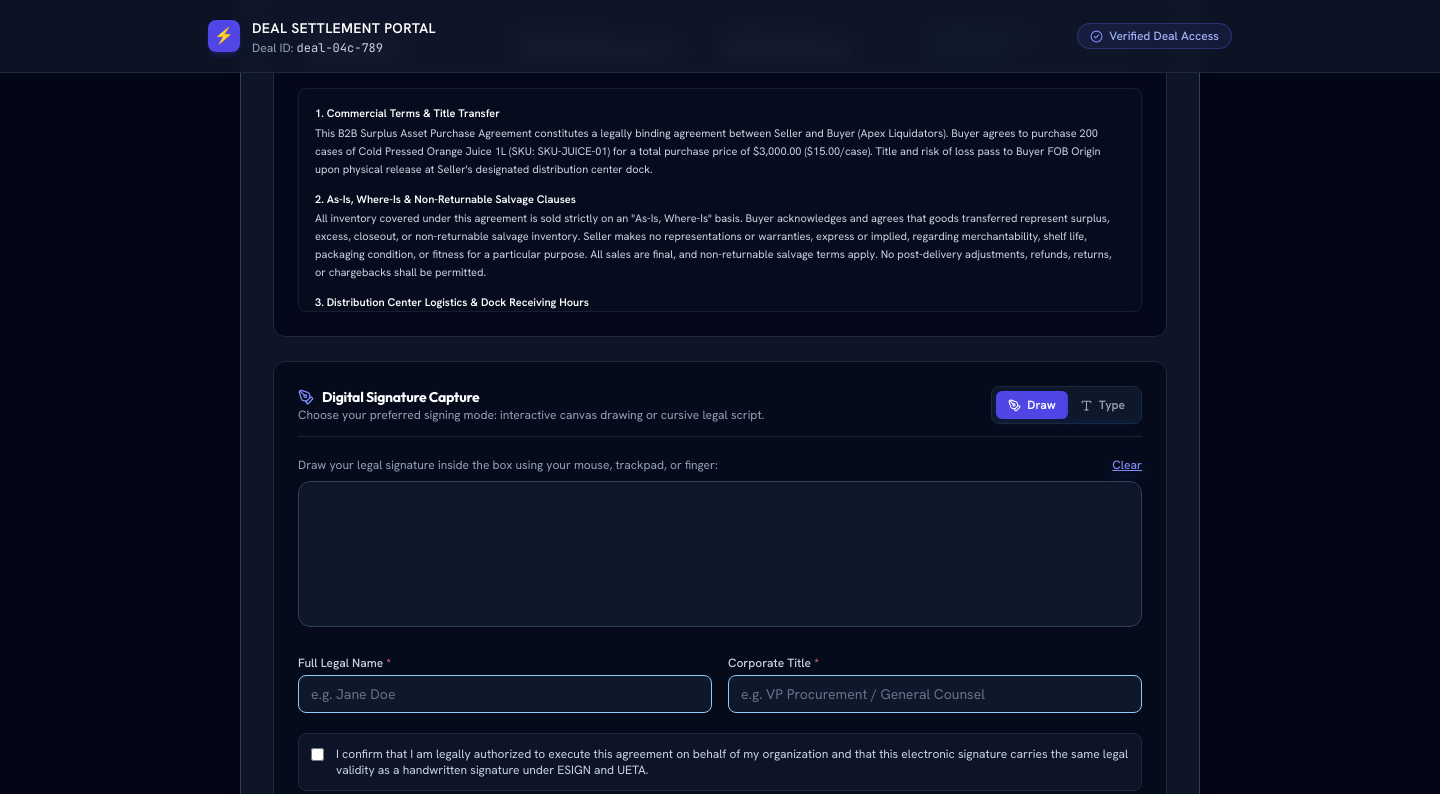
Scenario: Frontend Seam: Dual-Mode Signature Capture & Legal Agreement Execution (Issue #04C) › Slice 4: Dual-Mode Signature Pad (Draw & Type) and Submission Flow › supports switching between Draw and Type signature modes and submitting execution audit
(page scrolled)
Toggle to Type mode
Click the button with test id "signature-mode-type": [1102, 405] box x1=1068 y1=391 x2=1137 y2=419
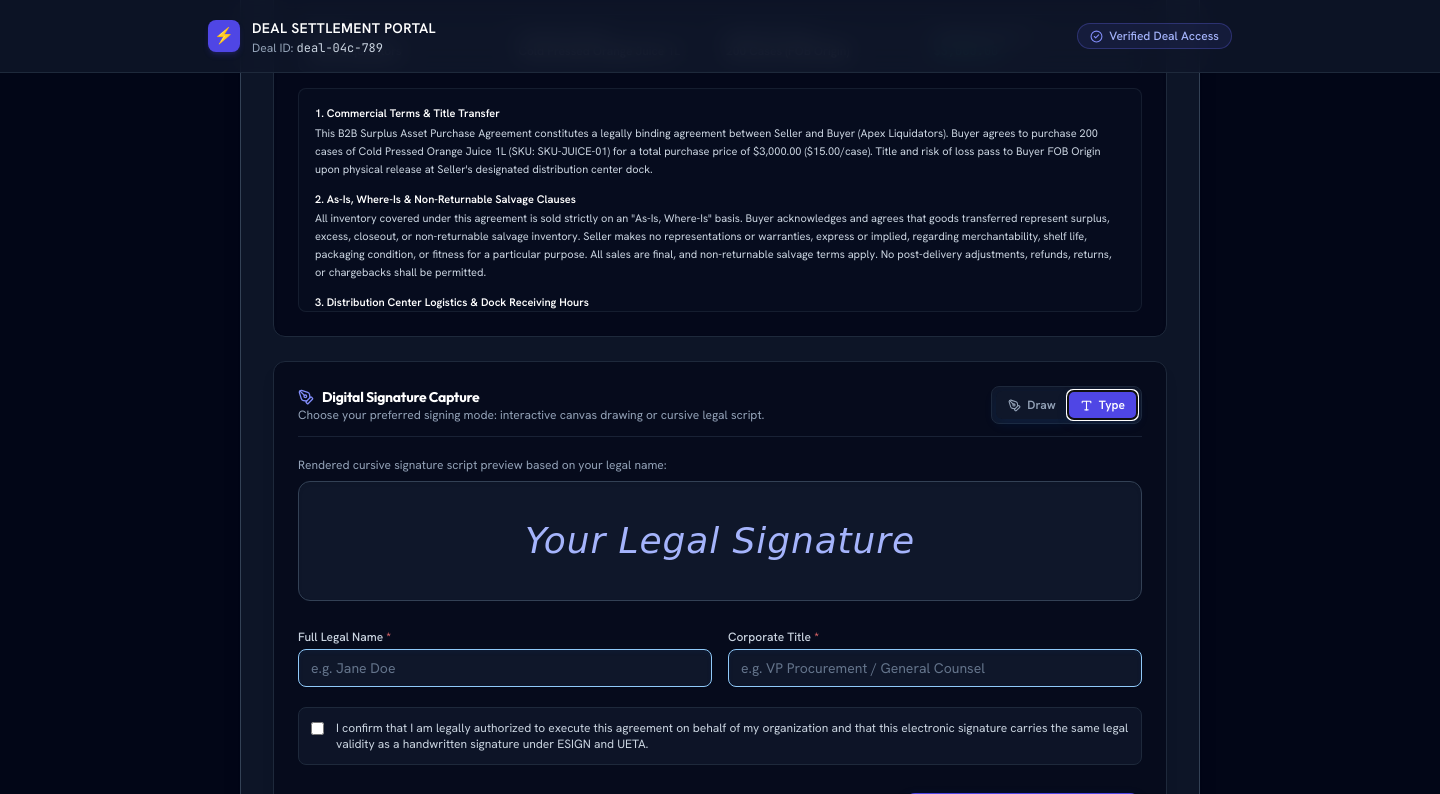
Expected: the text "Your Legal Signature" is shown, x1=525 y1=521 x2=915 y2=561
In the field labelled "Full Legal Name *": [505, 668] box x1=298 y1=649 x2=712 y2=687, type "Jane Doe"
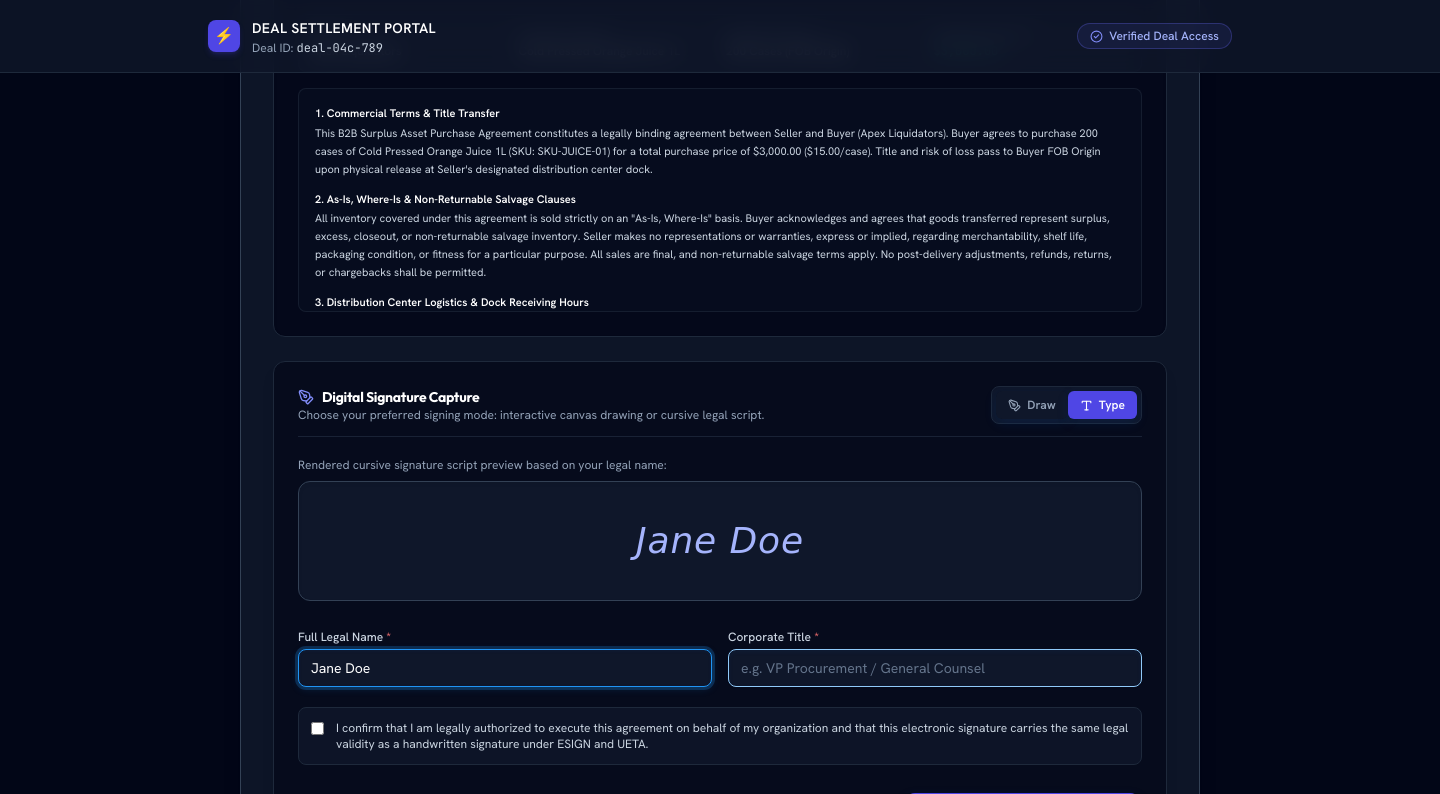
In the field labelled "Corporate Title *": [935, 668] box x1=728 y1=649 x2=1142 y2=687, type "VP Procurement"
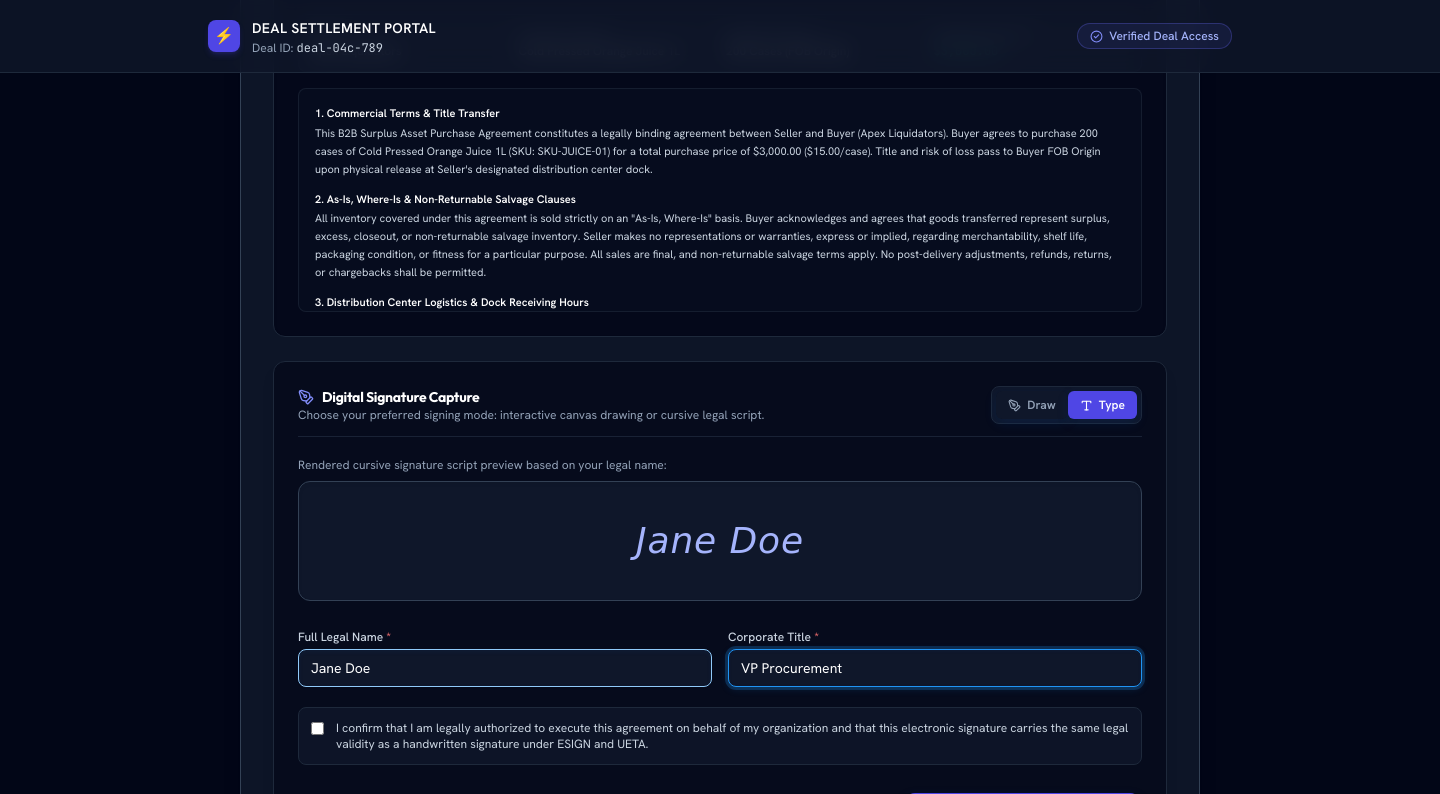
Click the checkbox labelled "I confirm that I am legally authorized": [318, 728] box x1=311 y1=722 x2=324 y2=735
(page scrolled)
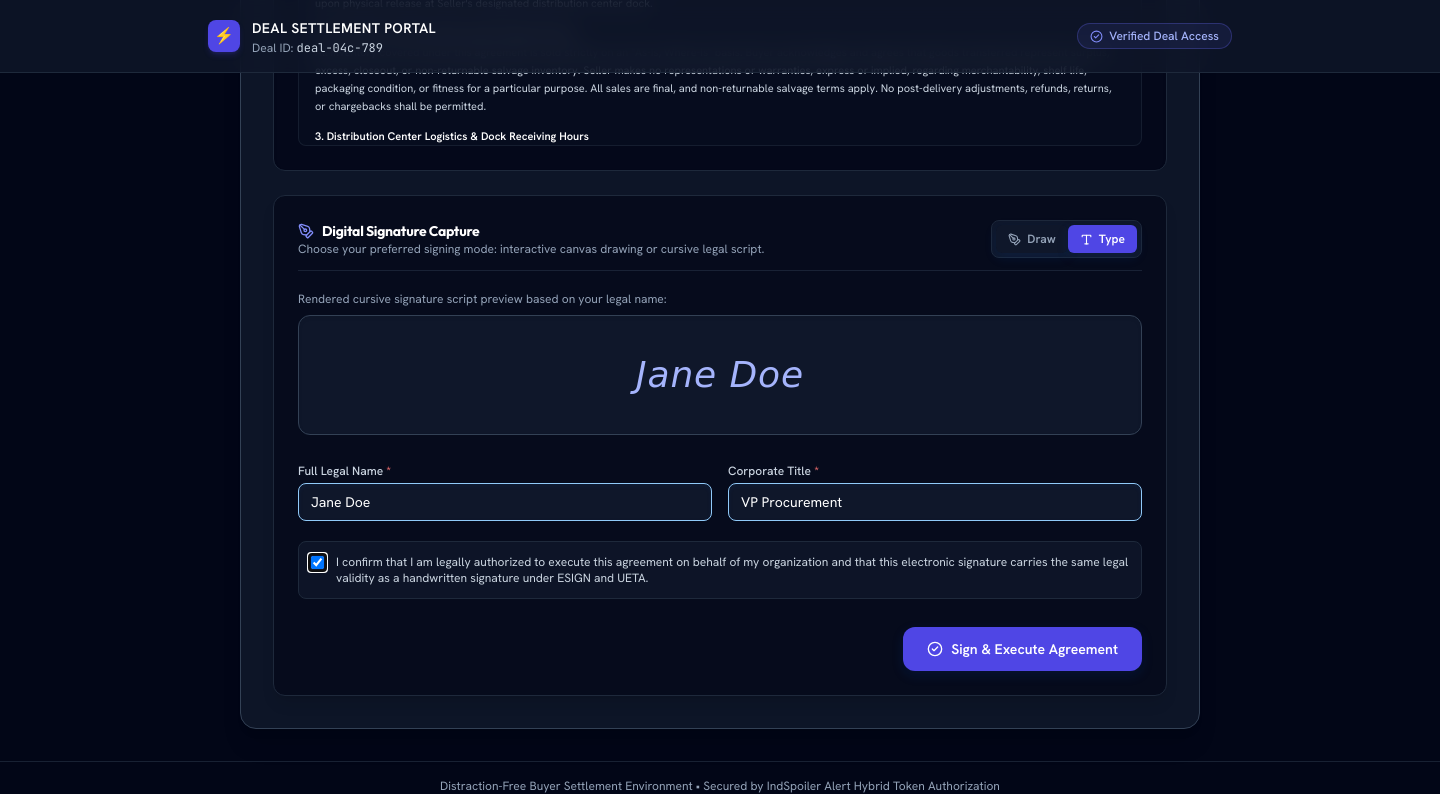
Click the button with test id "signature-submit-button": [1023, 649] box x1=903 y1=627 x2=1142 y2=671
(page scrolled)
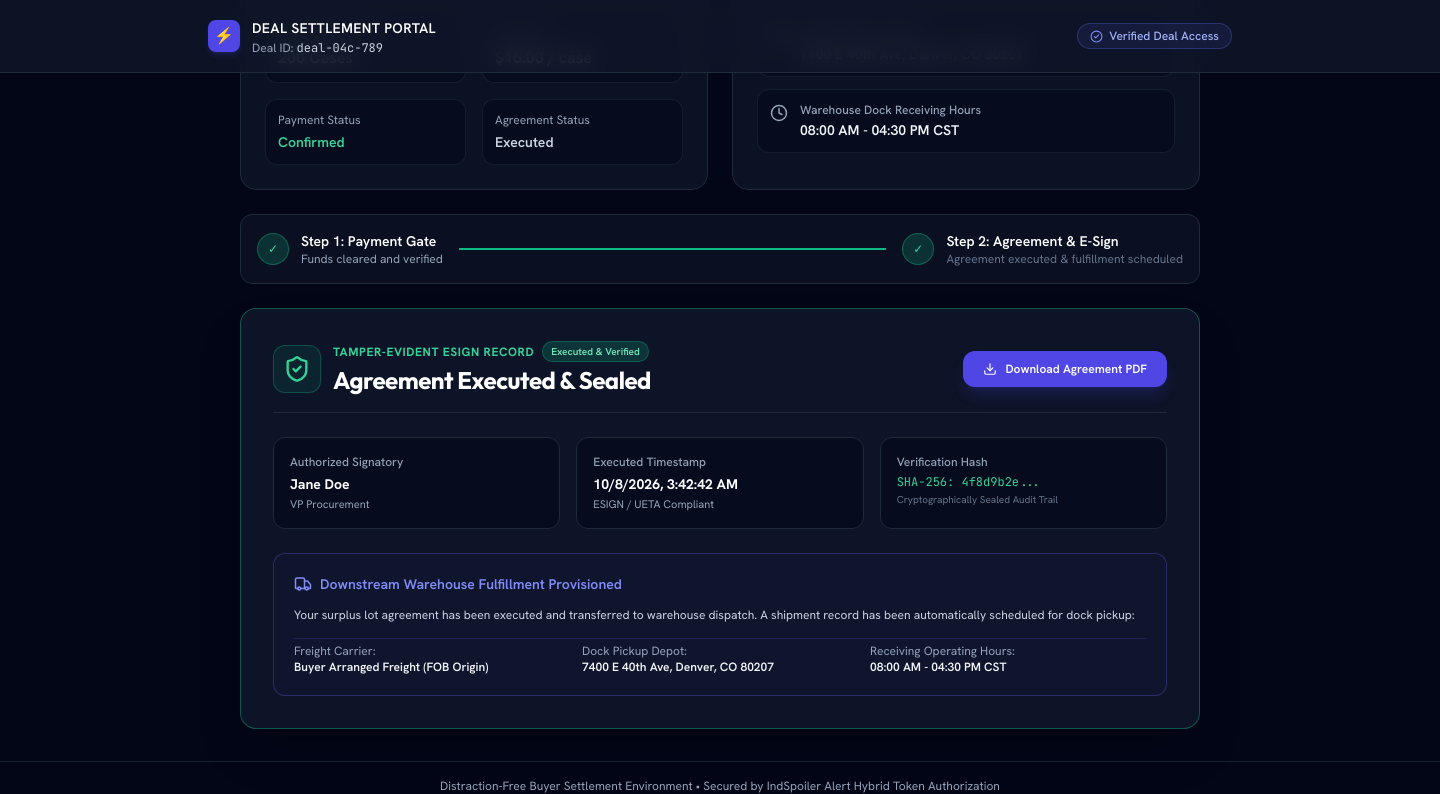
Expected: the text "Jane Doe" is shown, x1=290 y1=475 x2=350 y2=493
Expected: the element with test id "agreement-executed-certificate" is shown, x1=273 y1=341 x2=1167 y2=696
Expected: the heading "Agreement Executed & Sealed" is shown, x1=333 y1=364 x2=651 y2=396
